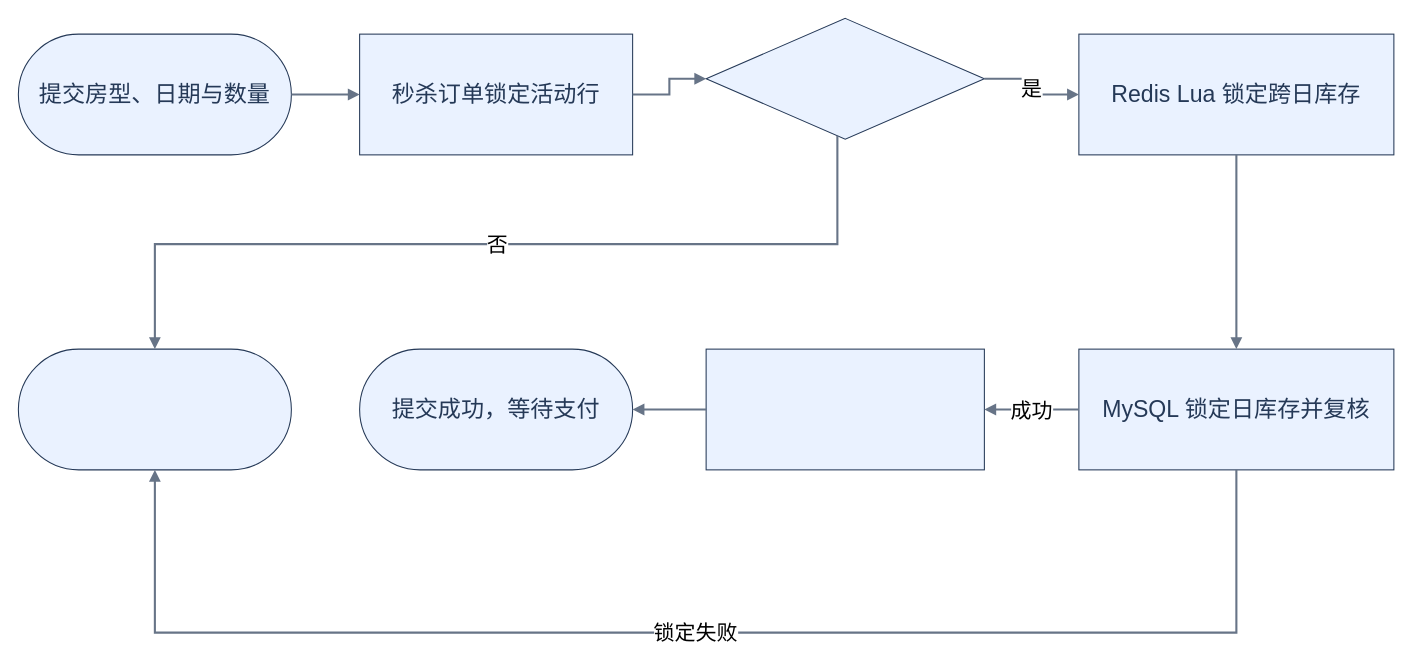
Image size: 1412x664. Some labels were removed from this diagram. The shapes that lost their labels are listed below. From the top down, each one's box as (x1, y1, x2, y2) in pixels, then its label:
(705, 17, 984, 139): 名额、规则与库存可用？
(17, 348, 291, 470): 回滚事务并补偿库存
(705, 348, 984, 470): 计算价格并写订单、入住人
